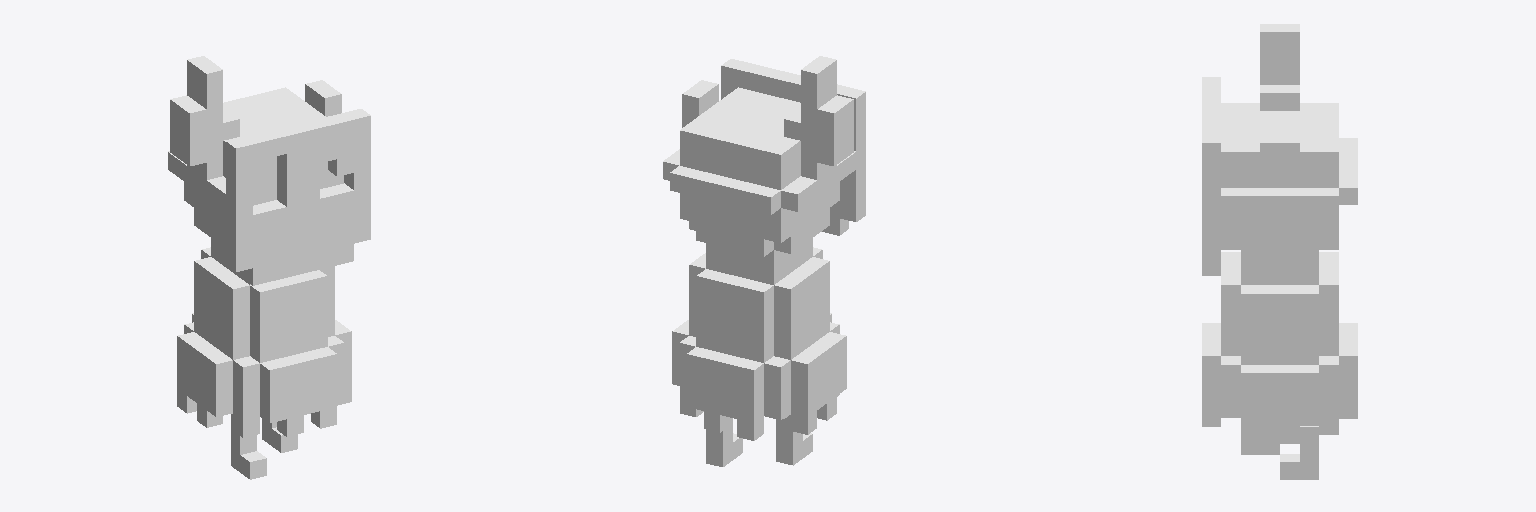
Rendered from Voxels-26.obj.
3 views of the same model, side by side, from view 1: azimuth 30°, elevation 25°; view 2: azimuth 150°, elevation 25°; view 3: azimuth 270°, elevation 25° (orthographic).
Parts seen in each view (by area): view 1: Voxels-26; view 2: Voxels-26; view 3: Voxels-26.
Part boxes in pixels (x1,y1,x2,y2): Voxels-26: (168,56,370,479); Voxels-26: (663,56,865,466); Voxels-26: (1202,24,1357,479).
Bounding box in the file's own units: 9 × 23 × 8.